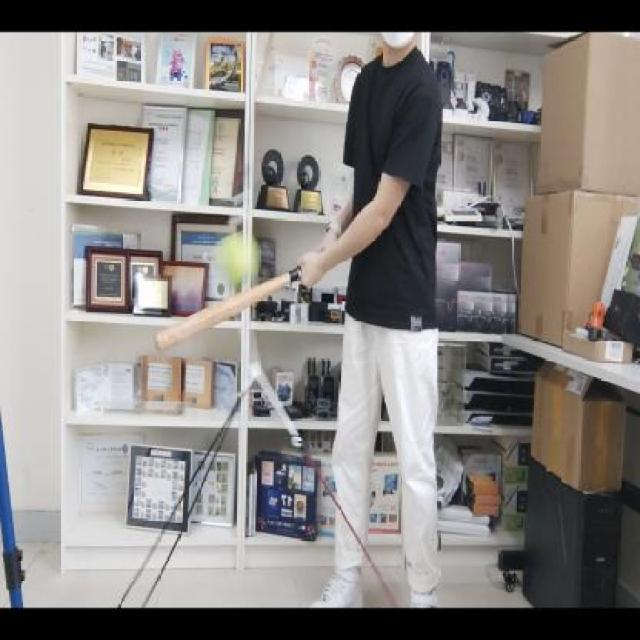baseball: (212, 226, 262, 282)
